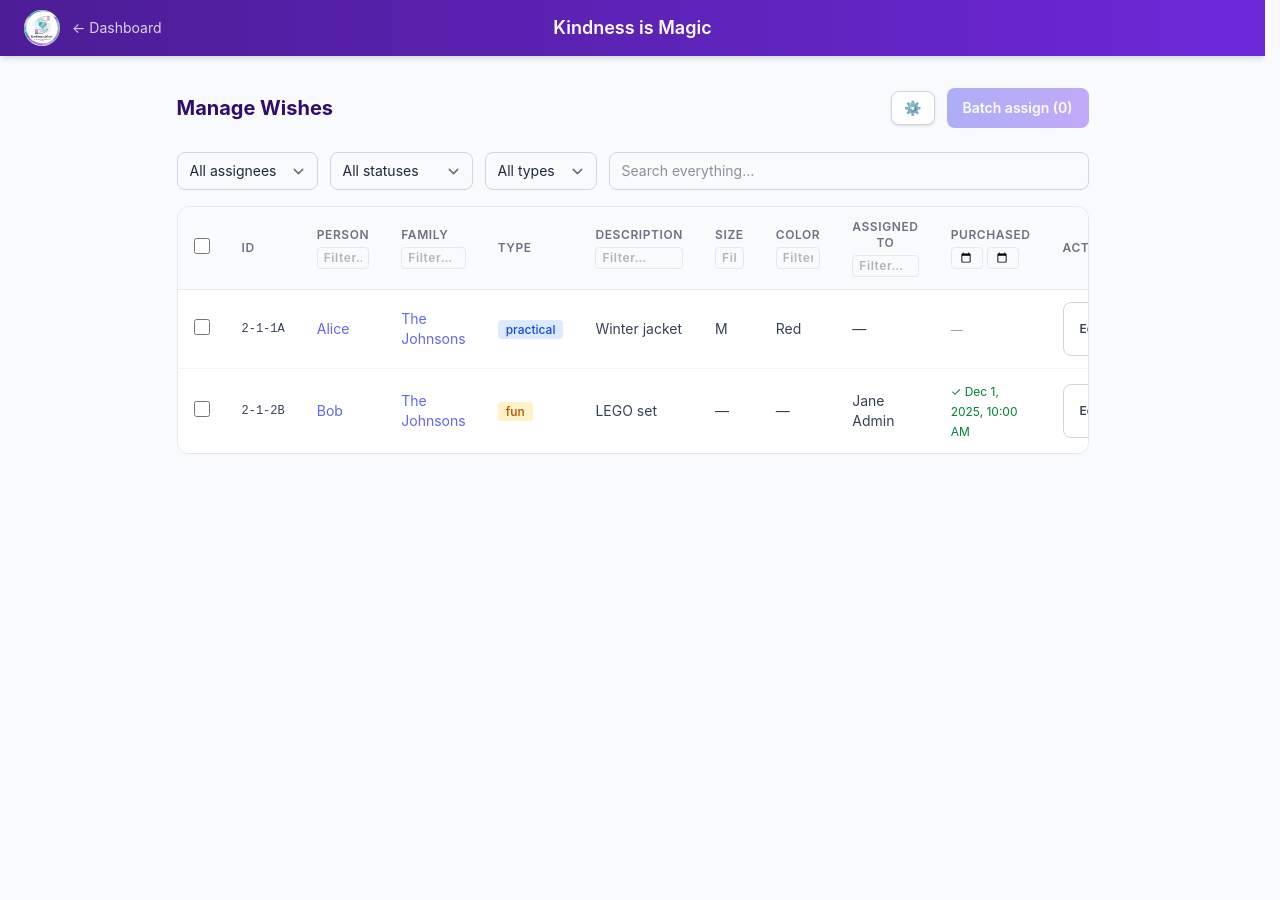
Scenario: AdminWishes › batch assign dialog opens with selected wishes
Check: the link "Alice" is shown, box [317,320,349,337]
Click the checkbox named "Select wish for Alice": (202, 326) [194,318,210,334]
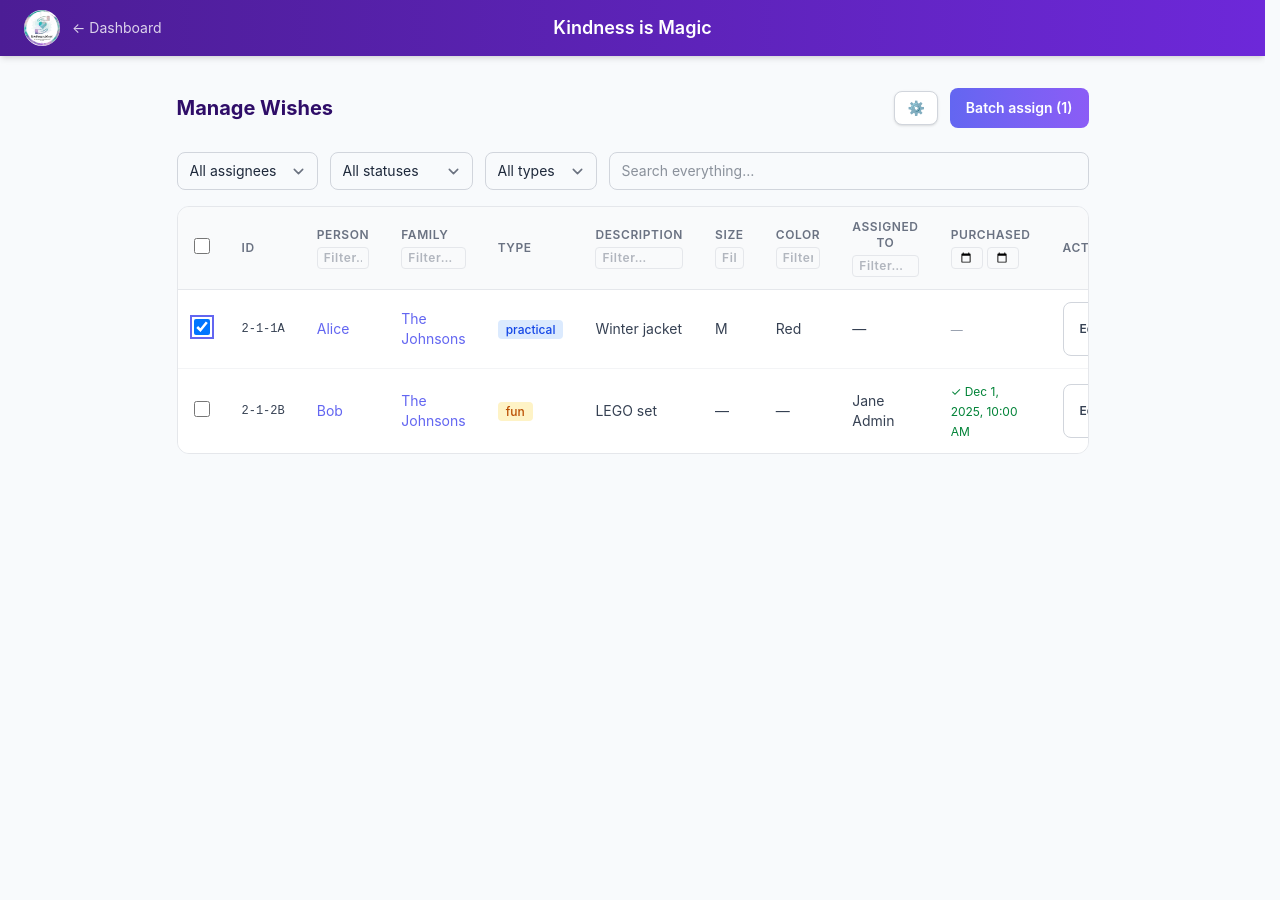
Check: the button "Batch assign (1)" is shown
Click the button "Batch assign (1)": (1019, 108) [950,88,1088,128]
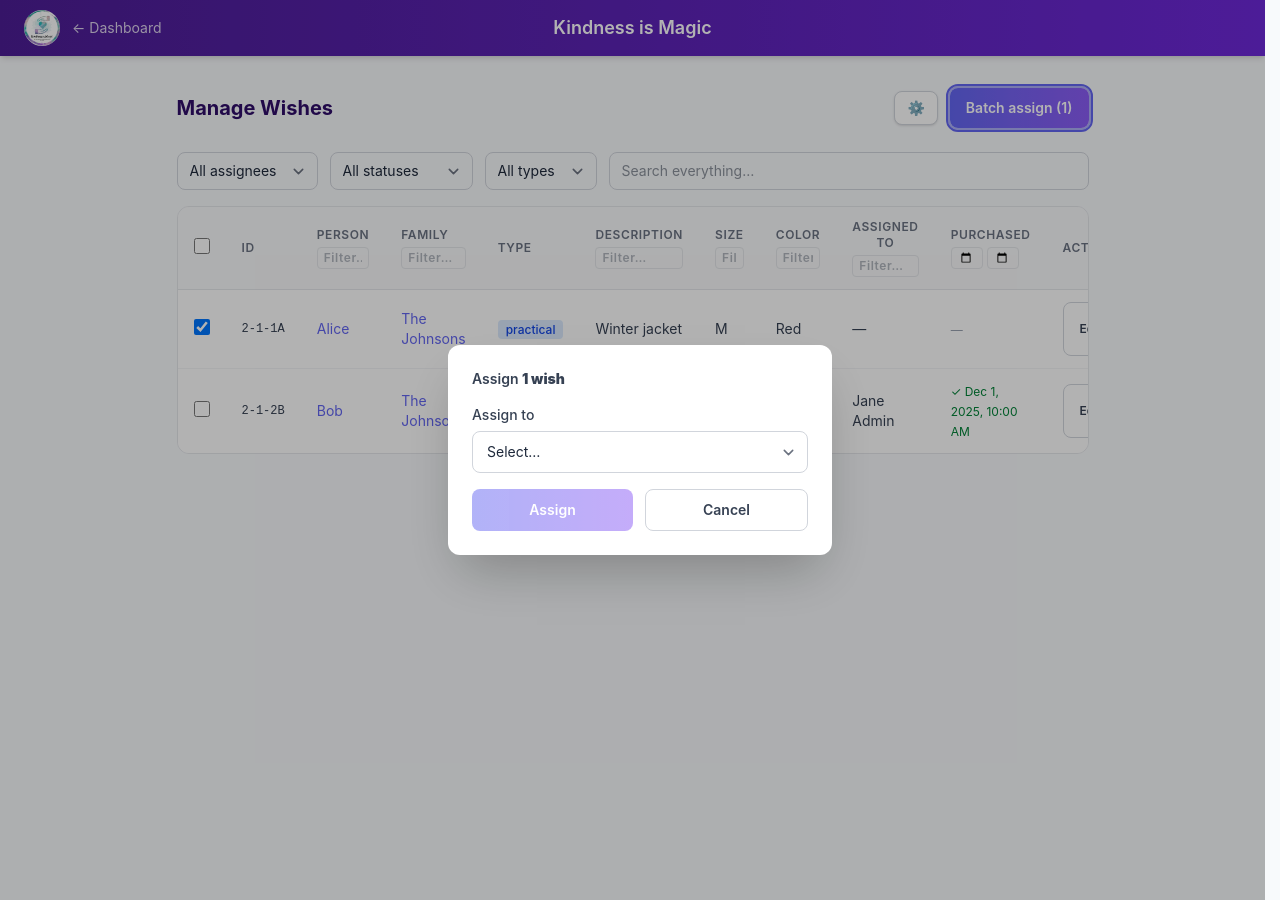
Check: the text "1 wish" is shown, box [522,370,565,387]
